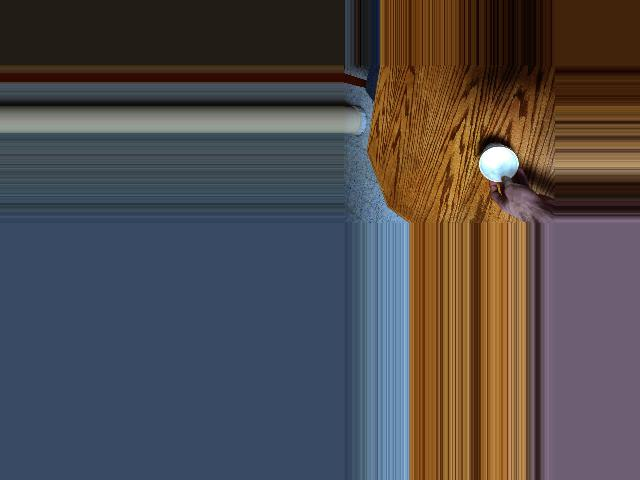cotage: (472, 144, 518, 184)
